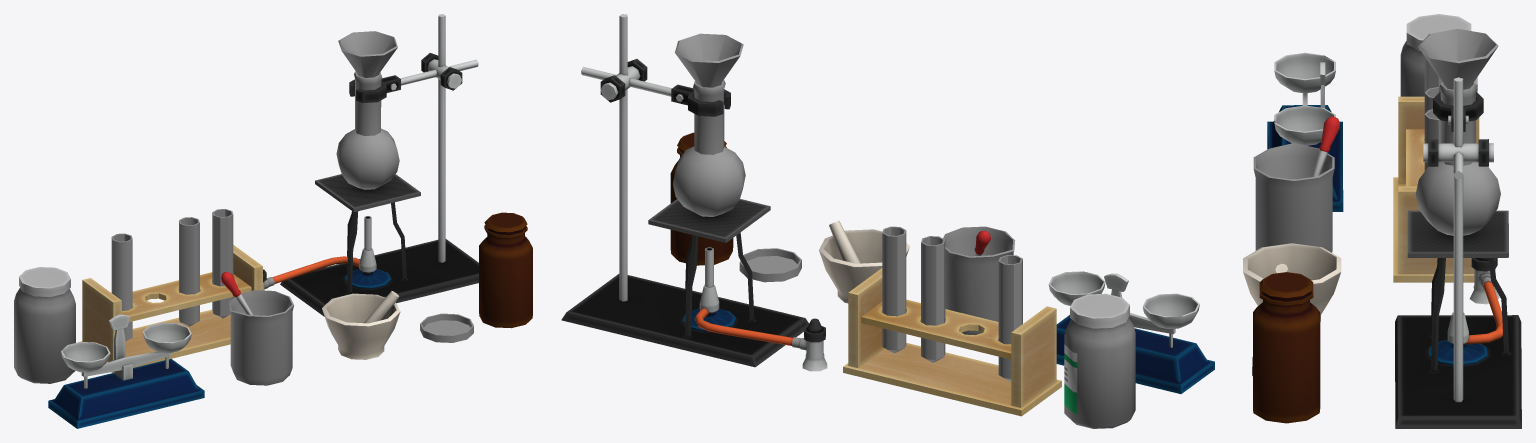
Rendered from props.fbx.
3 renders of one model, left to right at view 1: azimuth 30°, elevation 25°; view 2: azimuth 150°, elevation 25°; view 3: azimuth 270°, elevation 25°, orthographic. The views are drawn at different scales.
Visible parts, largest first — view 1: A12, A2, A1, A0, A9, A4, A10, A5, A11, A8; view 2: A2, A12, A0, A1, A10, A4, A5, A11, A9, A8, A7; view 3: A12, A9, A4, A2, A10, A1, A5, A11, A0, A3.
Part boxes in pixels (left/top/right/bottom): A12: left=263, top=14, right=478, bottom=316; A2: left=78, top=209, right=262, bottom=372; A1: left=48, top=314, right=204, bottom=428; A0: left=14, top=267, right=75, bottom=383; A9: left=479, top=212, right=532, bottom=328; A4: left=229, top=290, right=293, bottom=385; A10: left=336, top=71, right=399, bottom=189; A5: left=322, top=293, right=400, bottom=359; A11: left=338, top=31, right=397, bottom=77; A8: left=420, top=313, right=473, bottom=342; A2: left=843, top=226, right=1061, bottom=416; A12: left=561, top=14, right=827, bottom=371; A0: left=1064, top=293, right=1135, bottom=428; A1: left=1048, top=271, right=1214, bottom=393; A10: left=673, top=80, right=745, bottom=216; A4: left=943, top=226, right=1015, bottom=334; A5: left=819, top=229, right=909, bottom=303; A11: left=675, top=33, right=743, bottom=87; A9: left=670, top=132, right=733, bottom=265; A8: left=739, top=248, right=801, bottom=282; A7: left=829, top=220, right=861, bottom=263; A12: left=1395, top=77, right=1521, bottom=428; A9: left=1253, top=272, right=1320, bottom=423; A4: left=1253, top=143, right=1334, bottom=252; A2: left=1393, top=57, right=1479, bottom=282; A10: left=1415, top=82, right=1500, bottom=235; A1: left=1267, top=52, right=1343, bottom=211; A5: left=1243, top=243, right=1341, bottom=321; A11: left=1418, top=29, right=1498, bottom=89; A0: left=1400, top=14, right=1477, bottom=96; A3: left=1312, top=116, right=1339, bottom=176.
Bounding box in the file's own units: 1.41 × 0.72 × 0.551.
